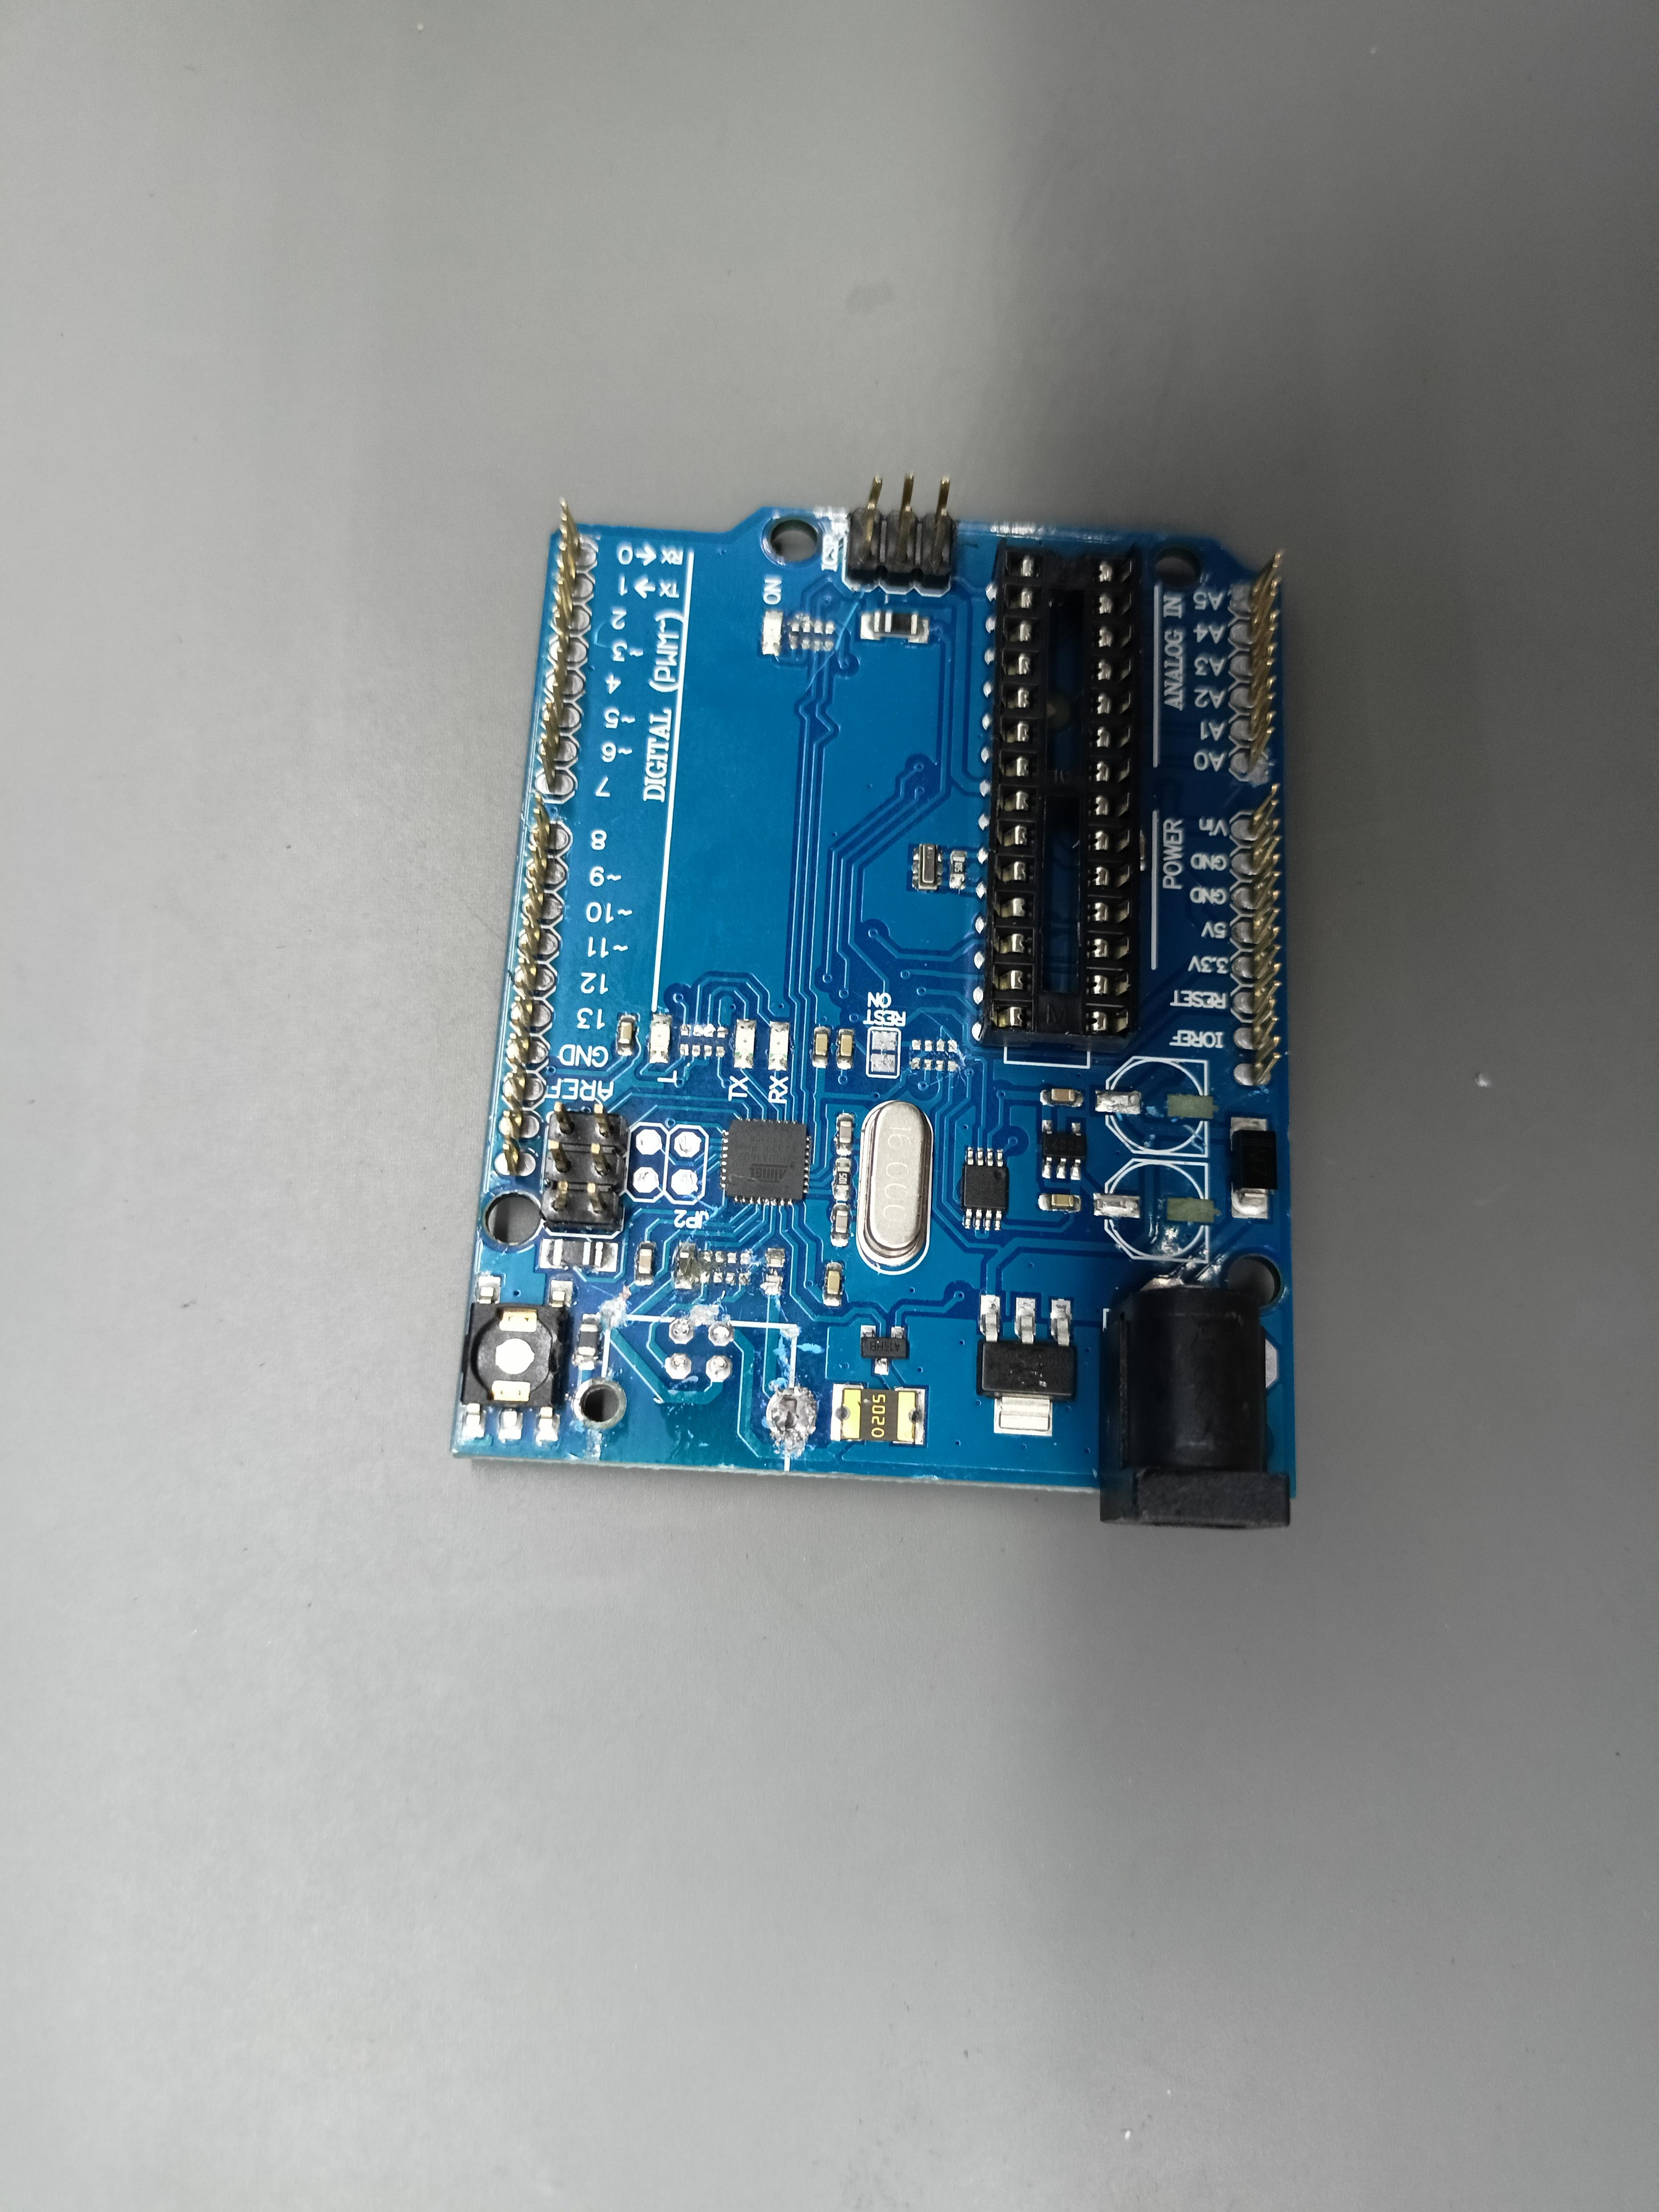Arduino board: (451, 475, 1297, 1527)
